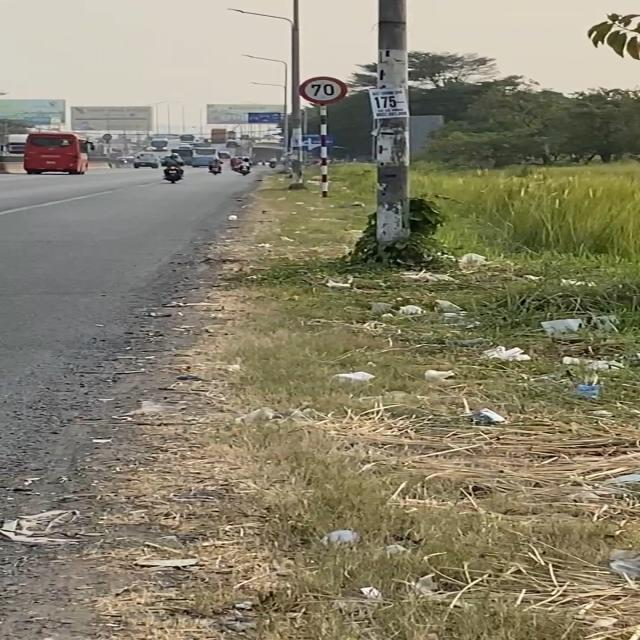127-toc-do-toi-da-70: (298, 75, 348, 104)
